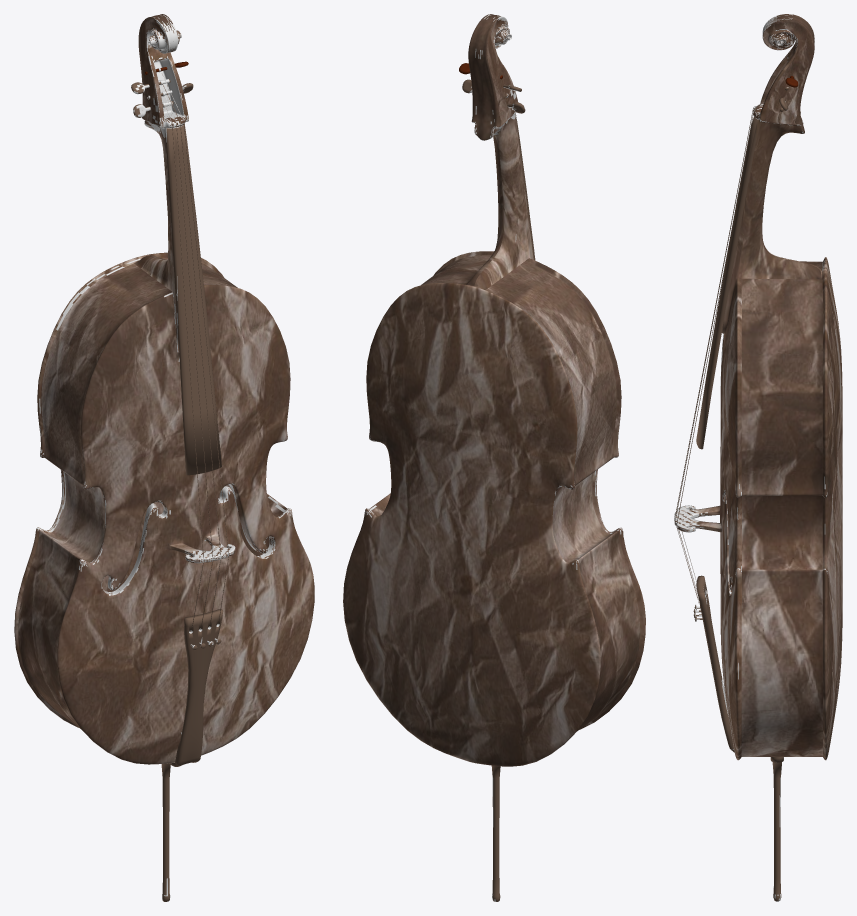
Rendered from cello4.glb.
3 views of the same model, side by side, from view 1: azimuth 30°, elevation 25°; view 2: azimuth 150°, elevation 25°; view 3: azimuth 270°, elevation 25° (orthographic).
Visible parts, largest first — view 1: cello_black_cello_black; view 2: cello_black_cello_black; view 3: cello_black_cello_black.
Boxes of the visible parts, box(x1,y1,x2,y2) form: cello_black_cello_black: box(14, 14, 314, 901); cello_black_cello_black: box(343, 14, 645, 901); cello_black_cello_black: box(674, 14, 842, 901).
Size of the model in its own units: 1.41 by 4.62 by 0.7973.
Materials: 5 (2 with a texture image).
